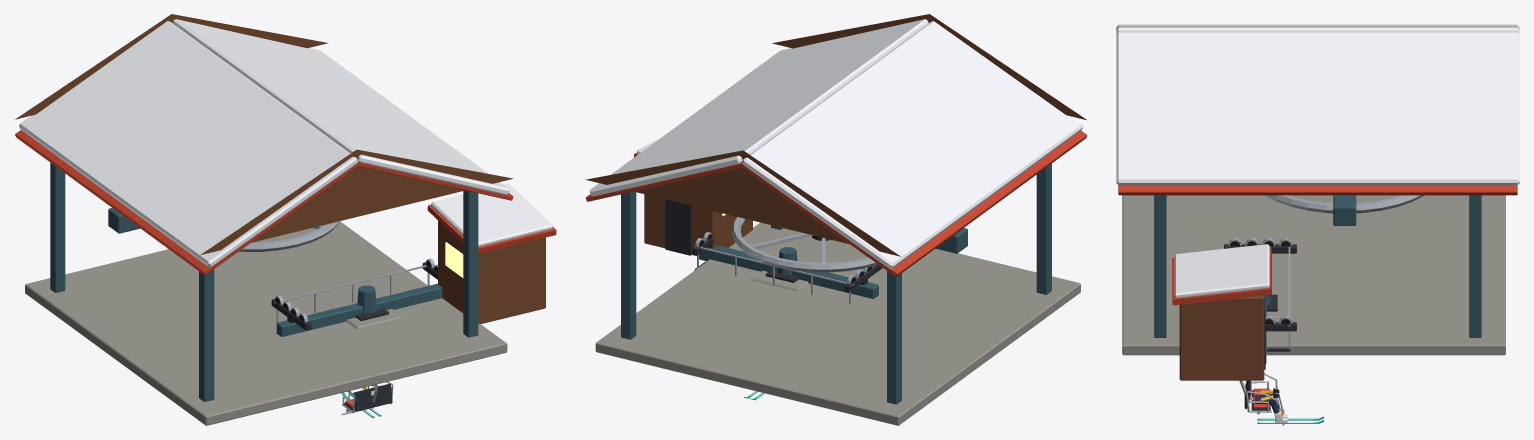
File: chairlift.glb
The picture shows the model from 3 angles, left to right: view 1: azimuth 30°, elevation 25°; view 2: azimuth 150°, elevation 25°; view 3: azimuth 270°, elevation 25°; orthographic projection. The views are drawn at different scales.
Parts seen in each view (by area): view 1: Terminal, TowerHead, Chair, TowerFooting; view 2: Terminal, TowerHead, TowerFooting; view 3: Terminal, TowerHead, Chair, Rider, TowerFooting.
Part boxes in pixels (left/top/right/bottom): Terminal: left=15, top=14, right=556, bottom=425; TowerHead: left=271, top=258, right=442, bottom=336; Chair: left=341, top=381, right=393, bottom=415; TowerFooting: left=330, top=297, right=403, bottom=328; Terminal: left=585, top=14, right=1087, bottom=425; TowerHead: left=692, top=232, right=882, bottom=304; TowerFooting: left=751, top=270, right=808, bottom=290; Terminal: left=1116, top=24, right=1519, bottom=380; TowerHead: left=1224, top=238, right=1296, bottom=363; Chair: left=1239, top=373, right=1284, bottom=425; Rider: left=1255, top=388, right=1324, bottom=423; TowerFooting: left=1266, top=293, right=1288, bottom=318.
Bounding box in the file's own units: 12.1 × 10.23 × 10.5.
